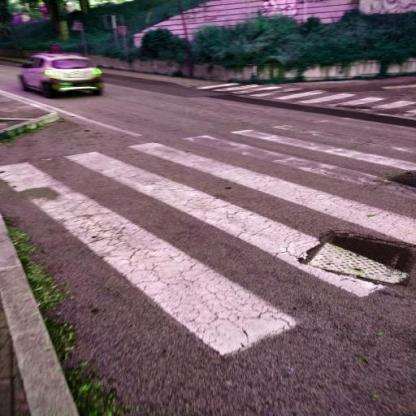crosswalk: (1, 145, 410, 363)
